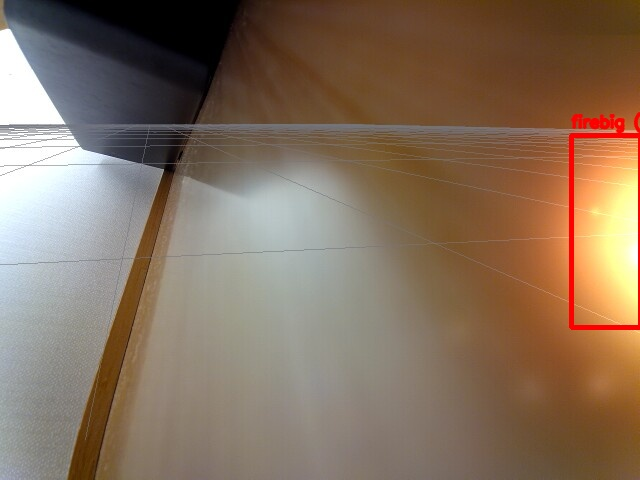firebig: (571, 135, 640, 327)
